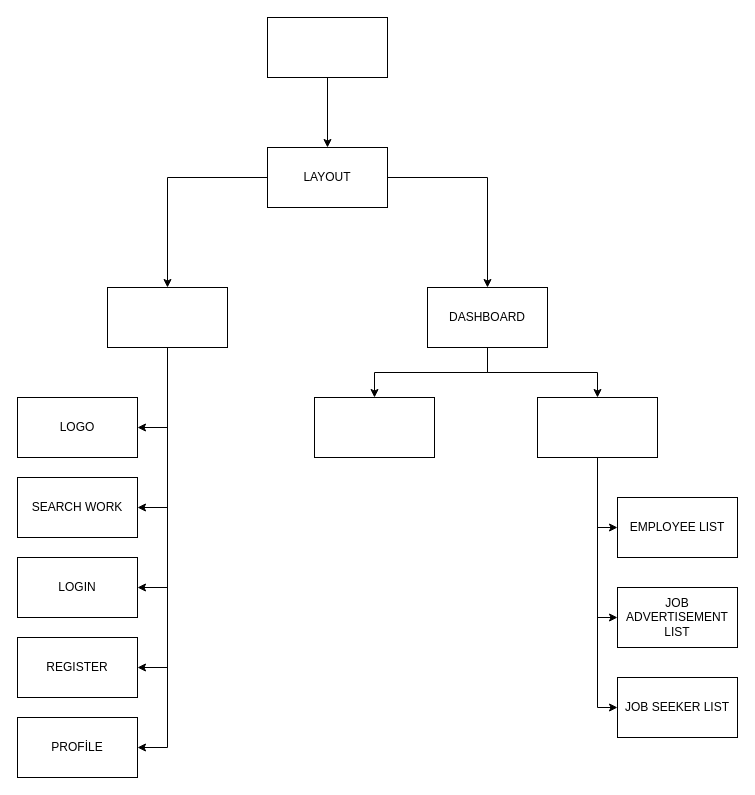
This 755x795 diagram has some shape labels left out. The centre of each missing label's shape, as x and y in pixels:
"APP" goes at (327,47).
"NAVBAR" goes at (167,317).
"PAGES" goes at (597,427).
"SIDEBAR" goes at (374,427).
